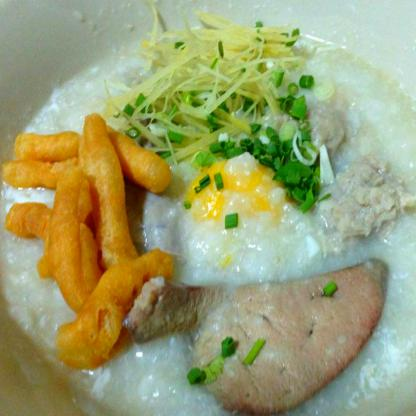Joke: (8, 4, 416, 416)
